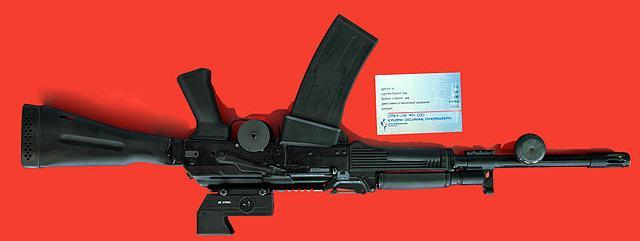larga: (21, 12, 632, 235)
